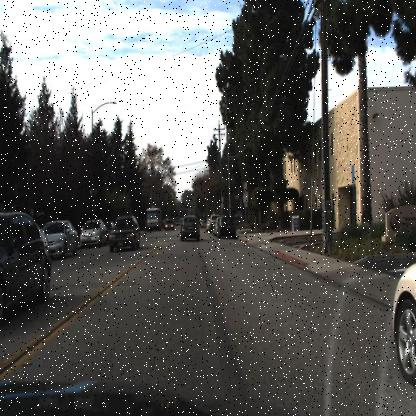car: (1, 208, 52, 318), (392, 258, 415, 388), (43, 219, 80, 260), (107, 212, 139, 252), (77, 218, 108, 249), (177, 216, 202, 243), (216, 215, 237, 239)
truck: (144, 204, 162, 231)
